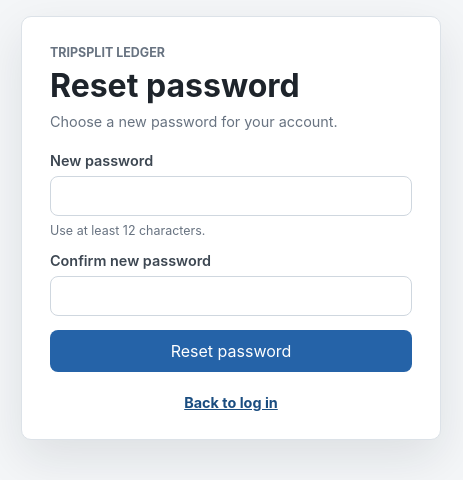
it: ResetPasswordPage › submits the token from the URL along with the new password
Type "brand-new-password-456" into the password field labelled "New password Use at least 12 characters." at (231, 196), box left=50, top=176, right=412, bottom=216
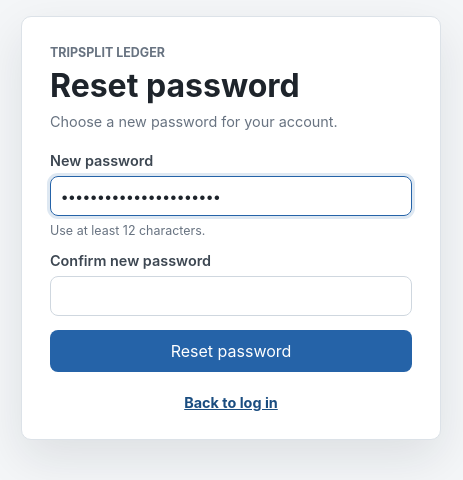
Type "brand-new-password-456" into the password field labelled "Confirm new password" at (231, 296), box left=50, top=276, right=412, bottom=316
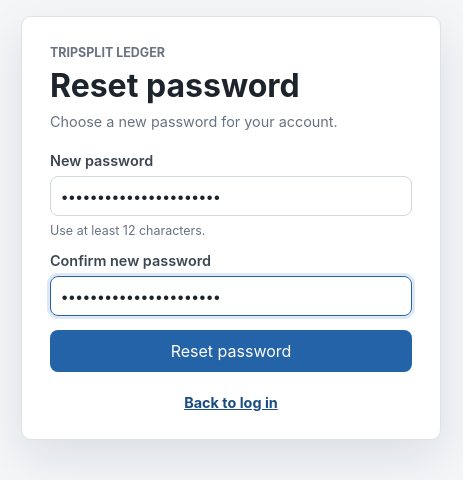
Click the button "Reset password" at (231, 351), box left=50, top=330, right=412, bottom=372
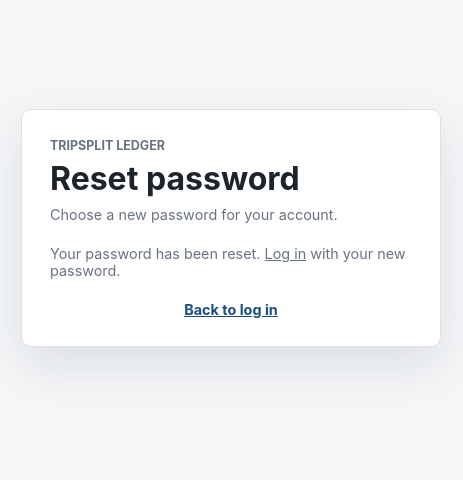
Expected: the text "Your password has been reset. Log in with your new password." is shown, left=50, top=245, right=412, bottom=279
